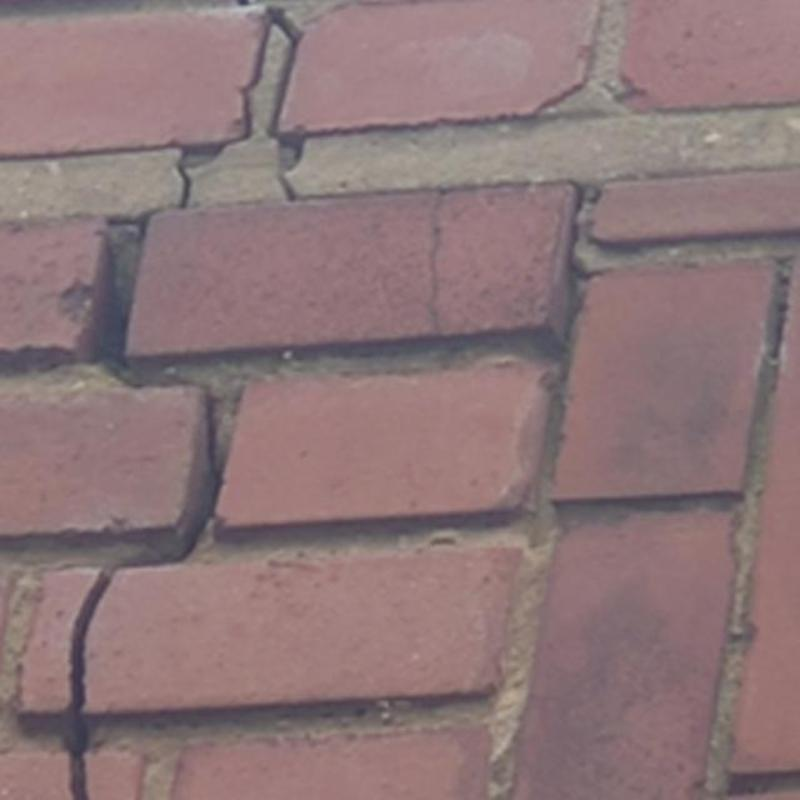pothole: (98, 291, 229, 571), (178, 6, 305, 207), (66, 567, 114, 799), (562, 184, 602, 340), (106, 210, 151, 235)
